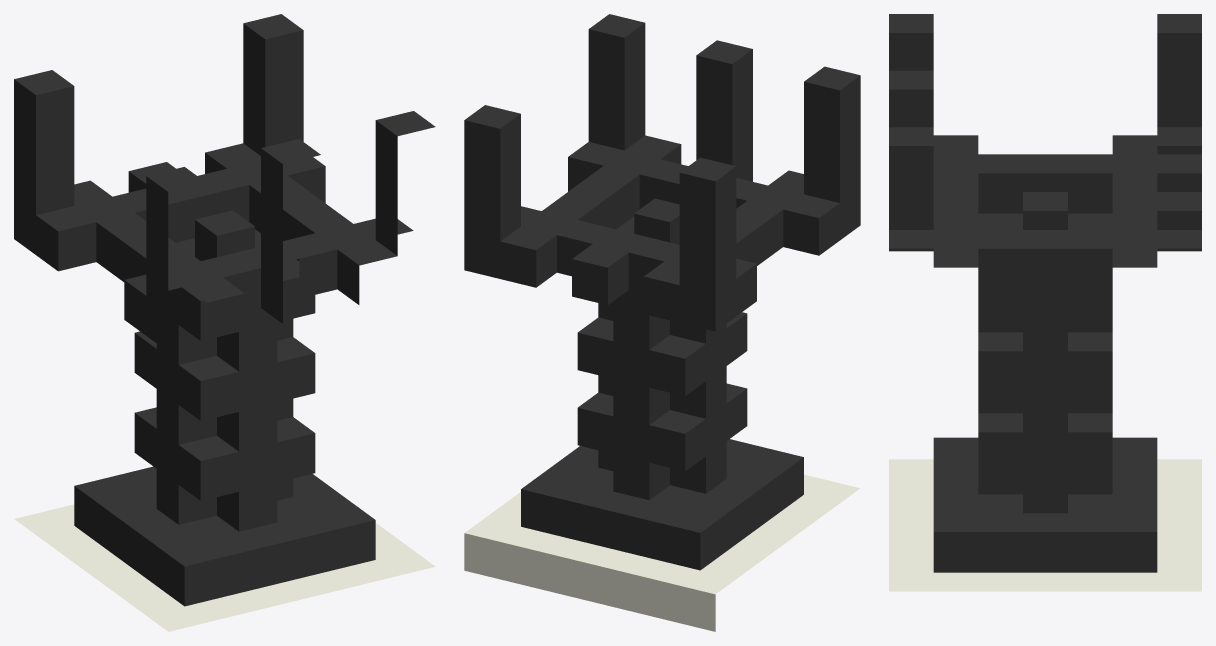
File: king-w.glb
3 views of the same model, side by side, from view 1: azimuth 30°, elevation 25°; view 2: azimuth 150°, elevation 25°; view 3: azimuth 270°, elevation 25° (orthographic). The views are drawn at different scales.
Visible parts, largest first — view 1: root; view 2: root; view 3: root.
Part boxes in pixels (left/top/right/bottom): root: left=14, top=14, right=435, bottom=631; root: left=464, top=14, right=860, bottom=631; root: left=889, top=14, right=1201, bottom=591.
Size of the model in its own units: 1 by 1.71 by 1.
1 material, 1 textured.
